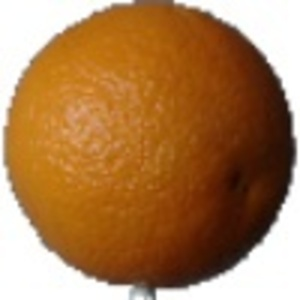laranja: (2, 1, 296, 298)
